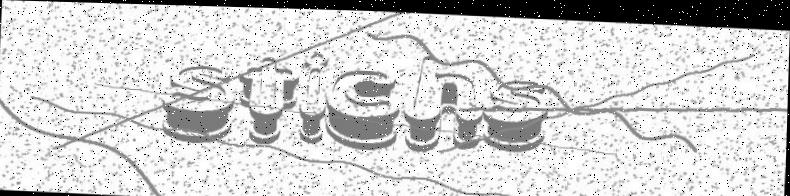c: (324, 61, 404, 154)
h: (404, 47, 485, 157)
i: (297, 42, 331, 144)
s: (157, 56, 239, 143), (478, 70, 555, 155)
t: (233, 50, 304, 145)
